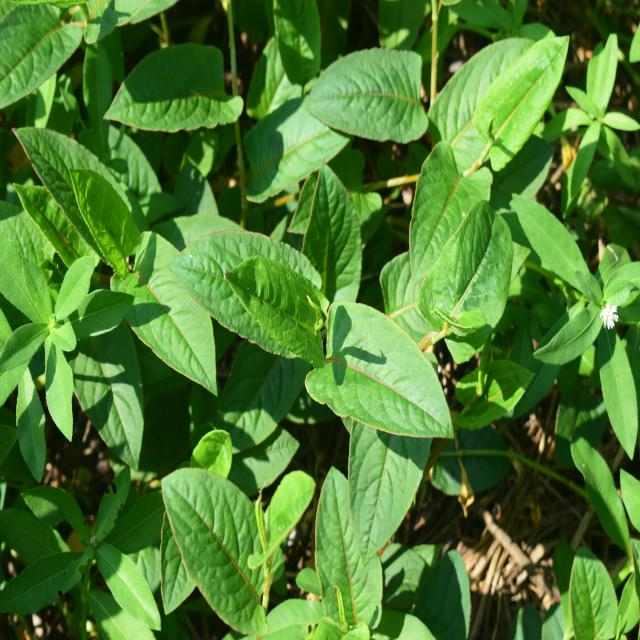Chinese_knotweed: (209, 174, 479, 497)
